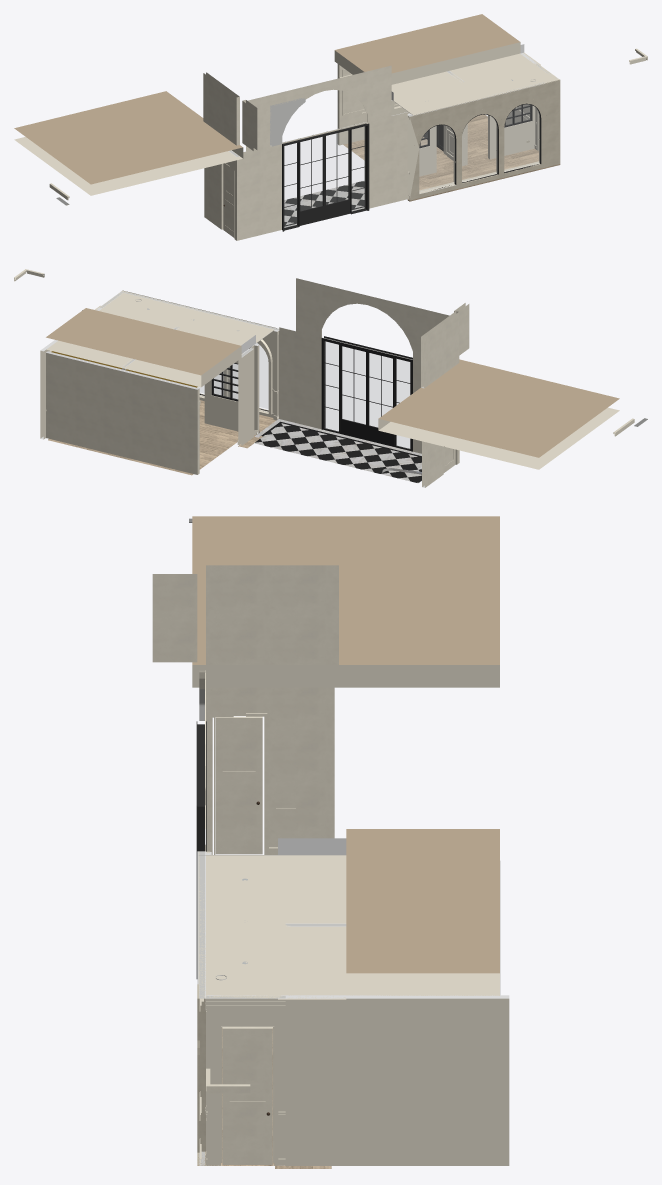
File: office-hall-5dc25290c3bc.glb
3 renders of one model, top to bottom at view 1: azimuth 30°, elevation 25°; view 2: azimuth 150°, elevation 25°; view 3: azimuth 270°, elevation 25°, orthographic. The views are drawn at different scales.
Visible parts, largest first — view 1: office-hall-look-2575515a05775d9e, office-hall-look-698abdfdc6fb970d, office-hall-look-d5a4a1b5d3594c04, office-hall-c9e78b9ec1bb39cd, office-hall-look-34525a54e63b733b, office-hall-dbd60ee5c3733ed6, office-hall-38561c12898e4d43, office-hall-c02a36d0521470a9, office-hall-5cbcc744e6f960f3, office-hall-look-746250f96522f643, office-hall-look-dbd60ee5c3733ed6, office-hall-c374268555806af8 (+11 smaller); view 2: office-hall-look-2575515a05775d9e, office-hall-look-19647d6da46c2b80, office-hall-look-698abdfdc6fb970d, office-hall-look-d5a4a1b5d3594c04, office-hall-look-c4ac463b6a960119, office-hall-look-34525a54e63b733b, office-hall-dbd60ee5c3733ed6, office-hall-look-746250f96522f643, office-hall-look-6a051330000fbca1, office-hall-a822d30aa9e2c55a, office-hall-look-3b0077416469e01b, office-hall-c9e78b9ec1bb39cd (+11 smaller); view 3: office-hall-look-2575515a05775d9e, office-hall-look-6a1144f4e43410bb, office-hall-look-746250f96522f643, office-hall-look-85f0fd939e0fcc78, office-hall-dbd60ee5c3733ed6, office-hall-look-dbd60ee5c3733ed6, office-hall-cf6d22c5317ced0b, office-hall-look-3322bc58bedf5620, office-hall-68d06b361ac47823, office-hall-look-5e296beffb47d853, office-hall-c9e78b9ec1bb39cd, office-hall-look-698abdfdc6fb970d.
Boxes of the visible parts, box(x1,y1,x2,y2) form: office-hall-look-2575515a05775d9e: box(14, 14, 520, 195); office-hall-look-698abdfdc6fb970d: box(282, 123, 369, 231); office-hall-look-d5a4a1b5d3594c04: box(236, 112, 407, 240); office-hall-c9e78b9ec1bb39cd: box(407, 82, 545, 200); office-hall-look-34525a54e63b733b: box(246, 65, 391, 151); office-hall-dbd60ee5c3733ed6: box(392, 63, 559, 115); office-hall-38561c12898e4d43: box(419, 125, 454, 191); office-hall-c02a36d0521470a9: box(462, 115, 497, 180); office-hall-5cbcc744e6f960f3: box(504, 104, 539, 170); office-hall-look-746250f96522f643: box(203, 72, 239, 145); office-hall-look-dbd60ee5c3733ed6: box(391, 44, 540, 100); office-hall-c374268555806af8: box(407, 148, 560, 201); office-hall-look-2575515a05775d9e: box(46, 308, 619, 469); office-hall-look-19647d6da46c2b80: box(46, 351, 199, 474); office-hall-look-698abdfdc6fb970d: box(321, 336, 412, 451); office-hall-look-d5a4a1b5d3594c04: box(279, 327, 459, 462); office-hall-look-c4ac463b6a960119: box(254, 423, 421, 483); office-hall-look-34525a54e63b733b: box(296, 278, 449, 361); office-hall-dbd60ee5c3733ed6: box(99, 290, 276, 346); office-hall-look-746250f96522f643: box(421, 311, 459, 388); office-hall-look-6a051330000fbca1: box(238, 347, 253, 445); office-hall-a822d30aa9e2c55a: box(179, 327, 254, 431); office-hall-look-3b0077416469e01b: box(48, 432, 237, 475); office-hall-c9e78b9ec1bb39cd: box(136, 294, 279, 418); office-hall-look-2575515a05775d9e: box(192, 516, 499, 995); office-hall-look-6a1144f4e43410bb: box(285, 995, 509, 1165); office-hall-look-746250f96522f643: box(206, 565, 338, 664); office-hall-look-85f0fd939e0fcc78: box(206, 687, 334, 854); office-hall-dbd60ee5c3733ed6: box(198, 855, 292, 998); office-hall-look-dbd60ee5c3733ed6: box(278, 838, 346, 999); office-hall-cf6d22c5317ced0b: box(222, 1028, 272, 1164); office-hall-look-3322bc58bedf5620: box(215, 716, 262, 854); office-hall-68d06b361ac47823: box(206, 995, 285, 1165); office-hall-look-5e296beffb47d853: box(152, 574, 197, 662); office-hall-c9e78b9ec1bb39cd: box(197, 851, 205, 1151); office-hall-look-698abdfdc6fb970d: box(196, 721, 206, 978).
Size of the model in its own units: 21.96 by 5.17 by 5.78.
Materials: 28 (7 with a texture image).
